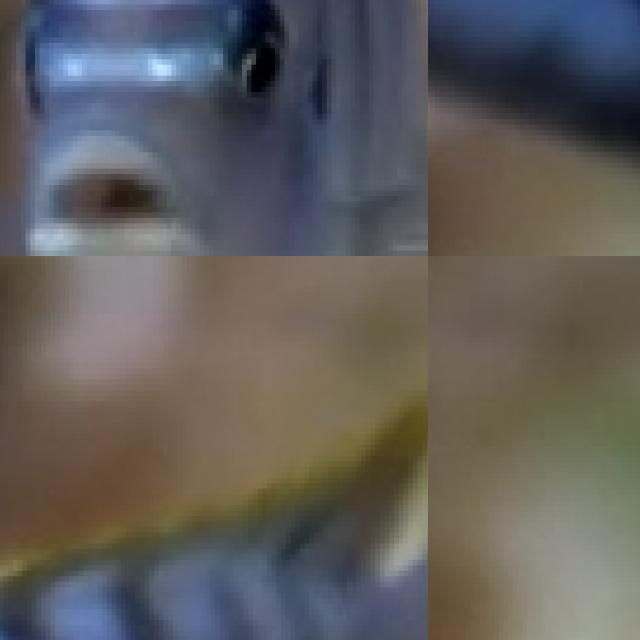fish: (0, 363, 428, 640), (0, 0, 428, 256)
